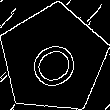O_NE: (21, 27, 86, 91)
